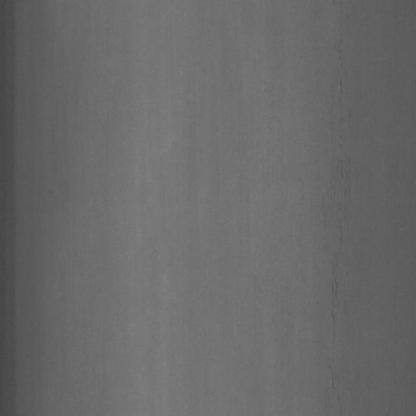silk_spot: (317, 68, 371, 272)
